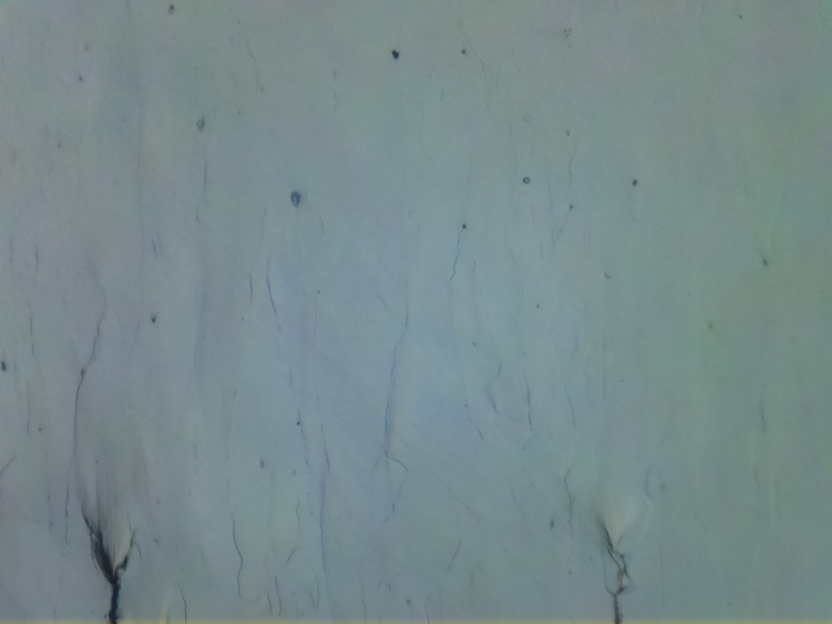crack: (80, 515, 141, 624), (593, 520, 635, 624)
